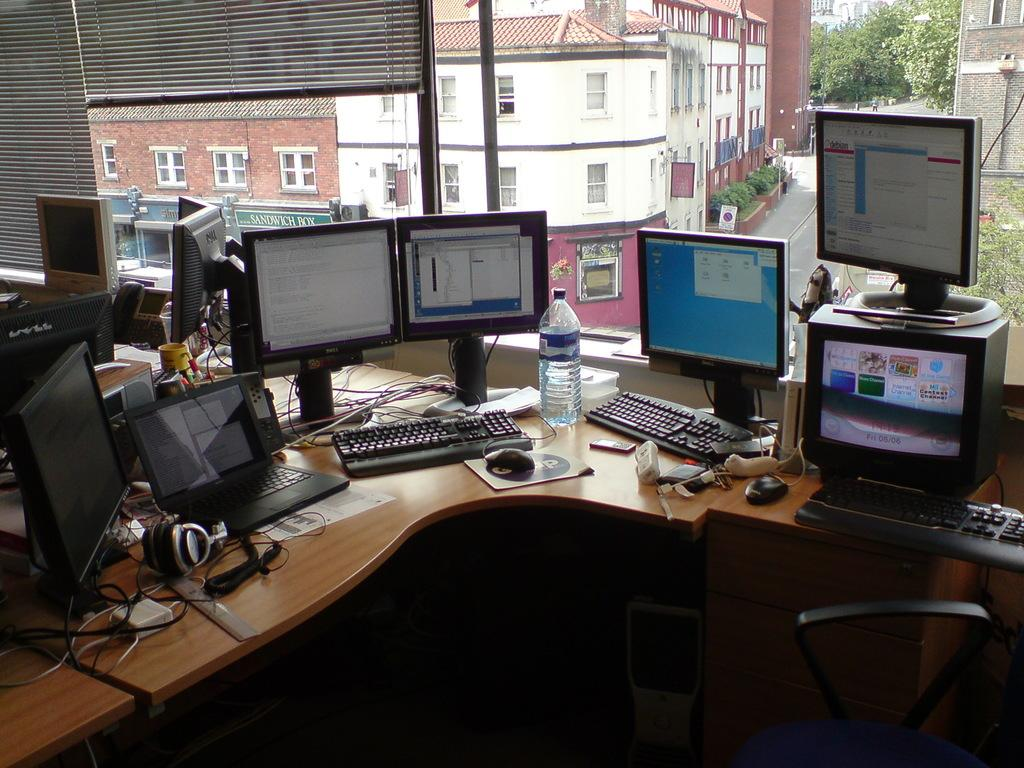Computer-keyboard: (789, 476, 1023, 574), (329, 406, 534, 479), (583, 388, 755, 463), (173, 464, 312, 516)
Computer-monitor: (794, 288, 1014, 502), (0, 341, 138, 621), (236, 214, 406, 436), (821, 108, 992, 307), (396, 206, 546, 419), (637, 225, 788, 433), (0, 291, 118, 460), (169, 204, 255, 367), (34, 193, 120, 291), (177, 192, 214, 220)
